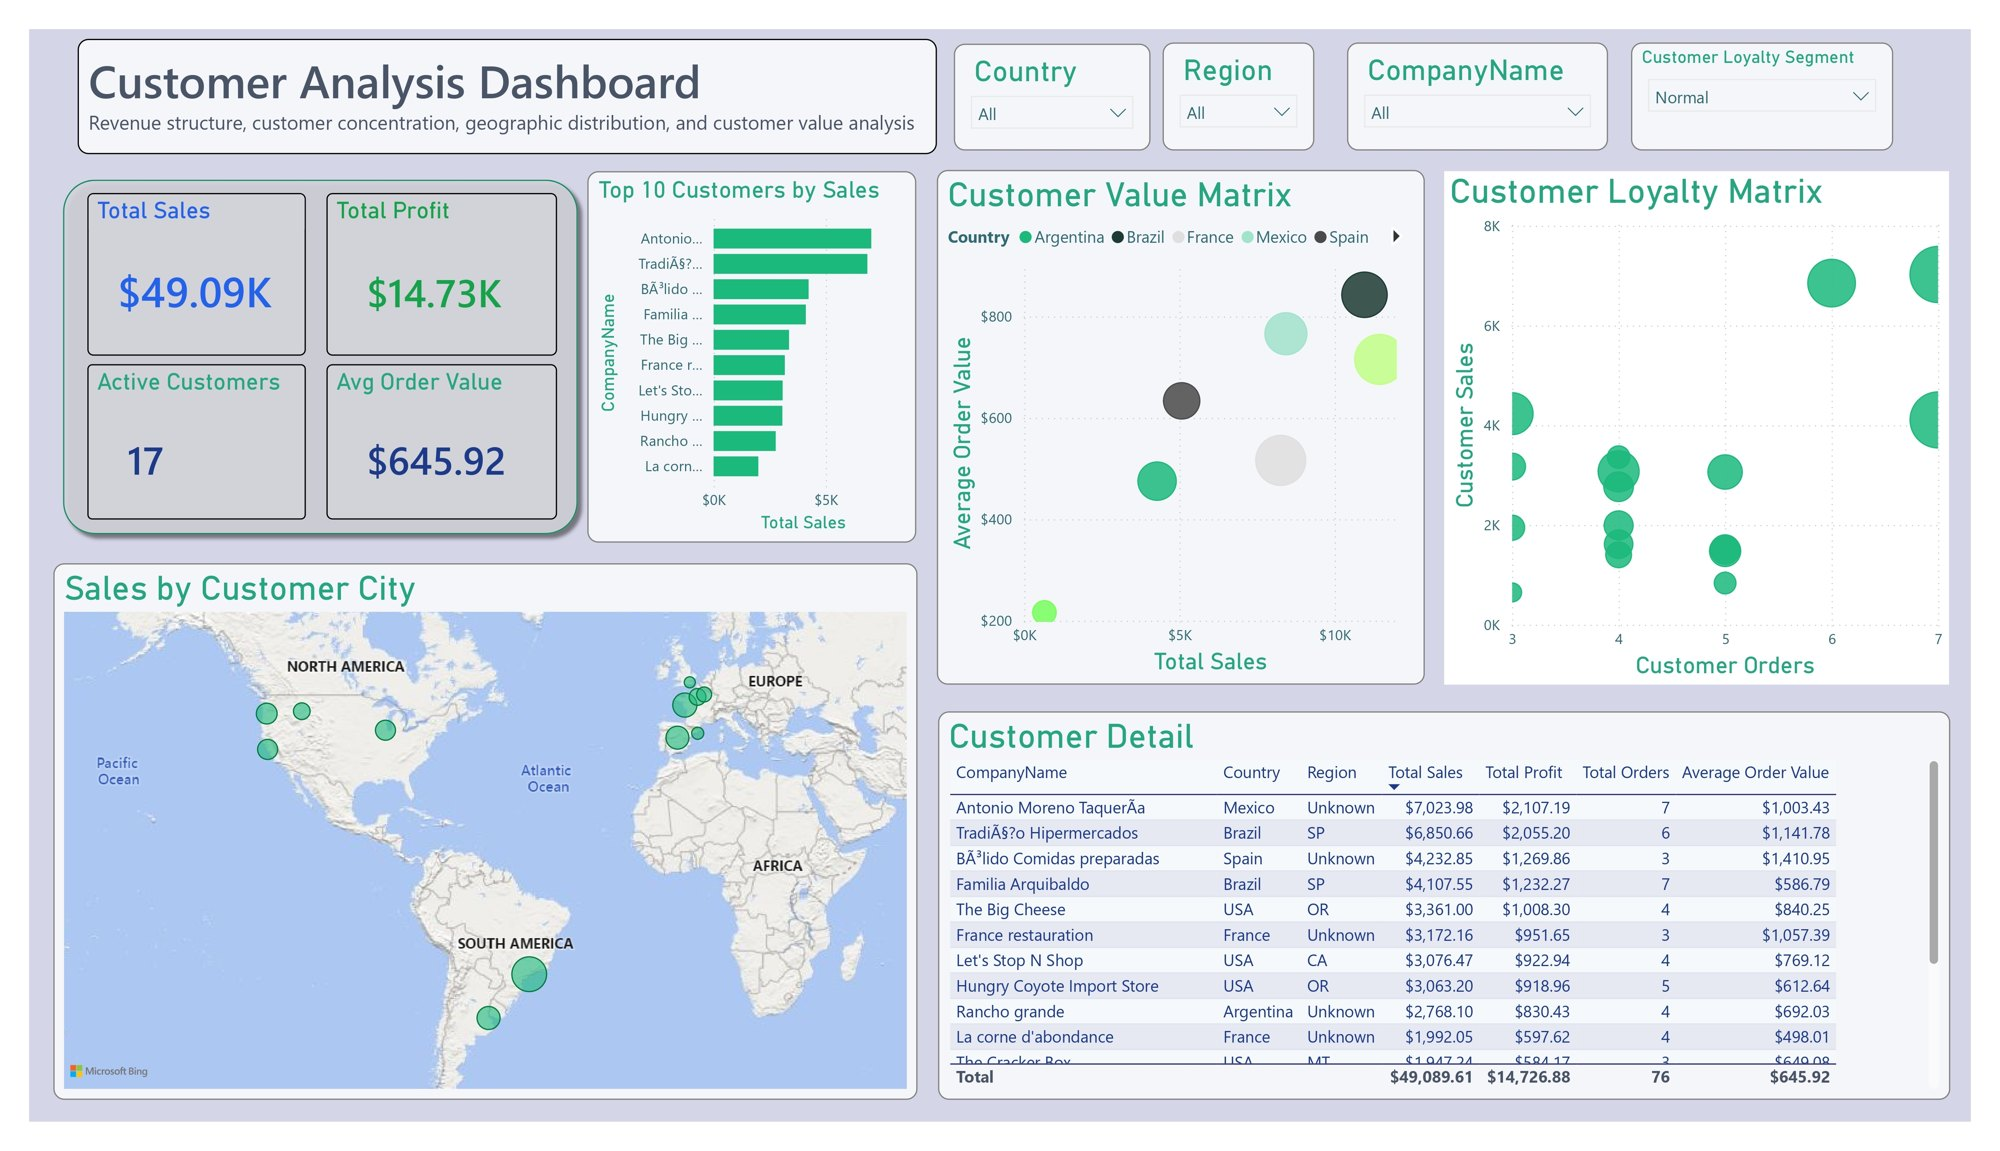

This screenshot's page, from the dashboard's own definition file:
{"tool":"powerbi","page":{"name":"Customer Analysis","canvas":[1600,900],"ordinal":3},"visuals":[{"type":"shape","box":[20,116.4,440,307.3],"z":0},{"type":"map","title":"Sales by Customer City","fields":{"Size":["_Measures.Total Sales"],"Category":["DimCustomer.City"]},"box":[20,440,712,442],"z":1000},{"type":"textbox","box":[40,8.3,708.3,95],"z":2000},{"type":"cardVisual","title":"Total Sales","fields":{"Data":["_Measures.Total Sales"]},"box":[48.2,135.5,180,133.6],"z":3000},{"type":"cardVisual","title":"Total Profit","fields":{"Data":["_Measures.Total Profit"]},"box":[245.5,135.5,189.1,133.6],"z":4000},{"type":"cardVisual","title":"Active Customers","fields":{"Data":["_Measures.Active Customers"]},"box":[48.2,276.4,180,127.3],"z":5000},{"type":"cardVisual","title":"Avg Order Value","fields":{"Data":["_Measures.Average Order Value"]},"box":[245.5,276.4,189.1,127.3],"z":6000},{"type":"slicer","fields":{"Values":["DimCustomer.Country"]},"box":[762,12,162,88],"z":7000},{"type":"clusteredBarChart","title":"Top 10 Customers by Sales","fields":{"Category":["DimCustomer.CompanyName"],"Y":["_Measures.Total Sales"]},"box":[460,117.1,271.4,305.7],"z":8000},{"type":"tableEx","title":"Customer Detail","fields":{"Values":["DimCustomer.CompanyName","DimCustomer.Country","DimCustomer.Region","_Measures.Total Sales","_Measures.Total Profit","_Measures.Total Orders","_Measures.Average Order Value"]},"box":[748.9,562.2,834.4,320],"z":9000},{"type":"scatterChart","title":"Customer Value Matrix","fields":{"X":["_Measures.Total Sales"],"Y":["_Measures.Average Order Value"],"Size":["_Measures.Total Orders"],"Series":["DimCustomer.Country"]},"box":[748,116,402,424],"z":10000},{"type":"slicer","fields":{"Values":["DimCustomer.Region"]},"box":[934.3,11.4,124.3,88.6],"z":11000},{"type":"slicer","fields":{"Values":["DimCustomer.CompanyName"]},"box":[1085.7,11.4,215.7,88.6],"z":12000},{"type":"scatterChart","title":"Customer Loyalty Matrix","fields":{"X":["_Measures.Customer Orders"],"Y":["_Measures.Customer Sales"],"Size":["Sum(FactSales.Quantity)"],"Category":["DimCustomer.CompanyName"]},"box":[1165.6,116.7,416.7,423.3],"z":13000},{"type":"slicer","title":"Customer Loyalty Segment","fields":{"Values":["DimCustomer.Customer Loyalty Segment Column"]},"box":[1320,11.4,215.7,88.6],"z":14000}]}

Visuals, with their boxes in screenshot pixels (x1, y1, x2, y2), scaled from the page's 1600x900 canvas onto the 2000x1151 screenshot:
shape: 25,149,575,542
"Sales by Customer City" map: 25,563,915,1128
textbox: 50,11,935,132
"Total Sales" cardVisual: 60,173,285,344
"Total Profit" cardVisual: 307,173,543,344
"Active Customers" cardVisual: 60,353,285,516
"Avg Order Value" cardVisual: 307,353,543,516
slicer - DimCustomer.Country: 952,15,1155,128
"Top 10 Customers by Sales" clusteredBarChart: 575,150,914,541
"Customer Detail" tableEx: 936,719,1979,1128
"Customer Value Matrix" scatterChart: 935,148,1438,691
slicer - DimCustomer.Region: 1168,15,1323,128
slicer - DimCustomer.CompanyName: 1357,15,1627,128
"Customer Loyalty Matrix" scatterChart: 1457,149,1978,691
"Customer Loyalty Segment" slicer: 1650,15,1920,128
